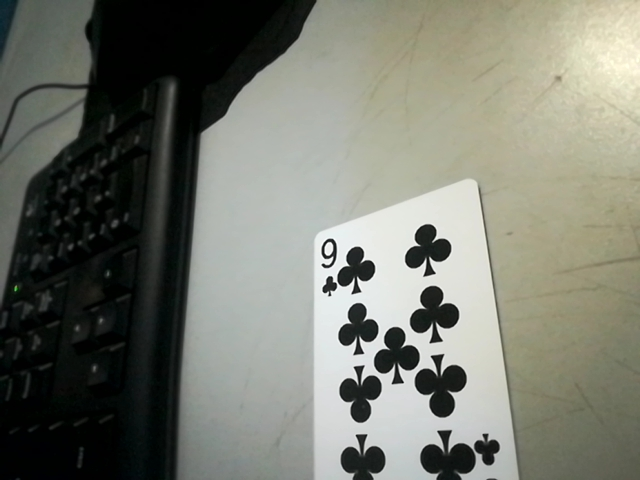mh 9: (307, 227, 360, 295)
